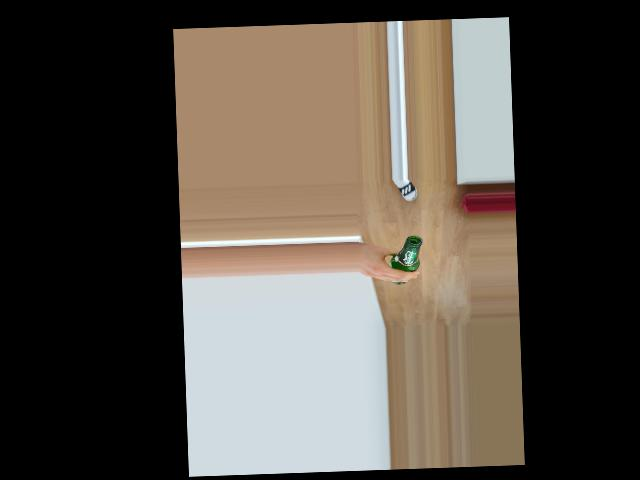beer: (388, 235, 424, 284)
